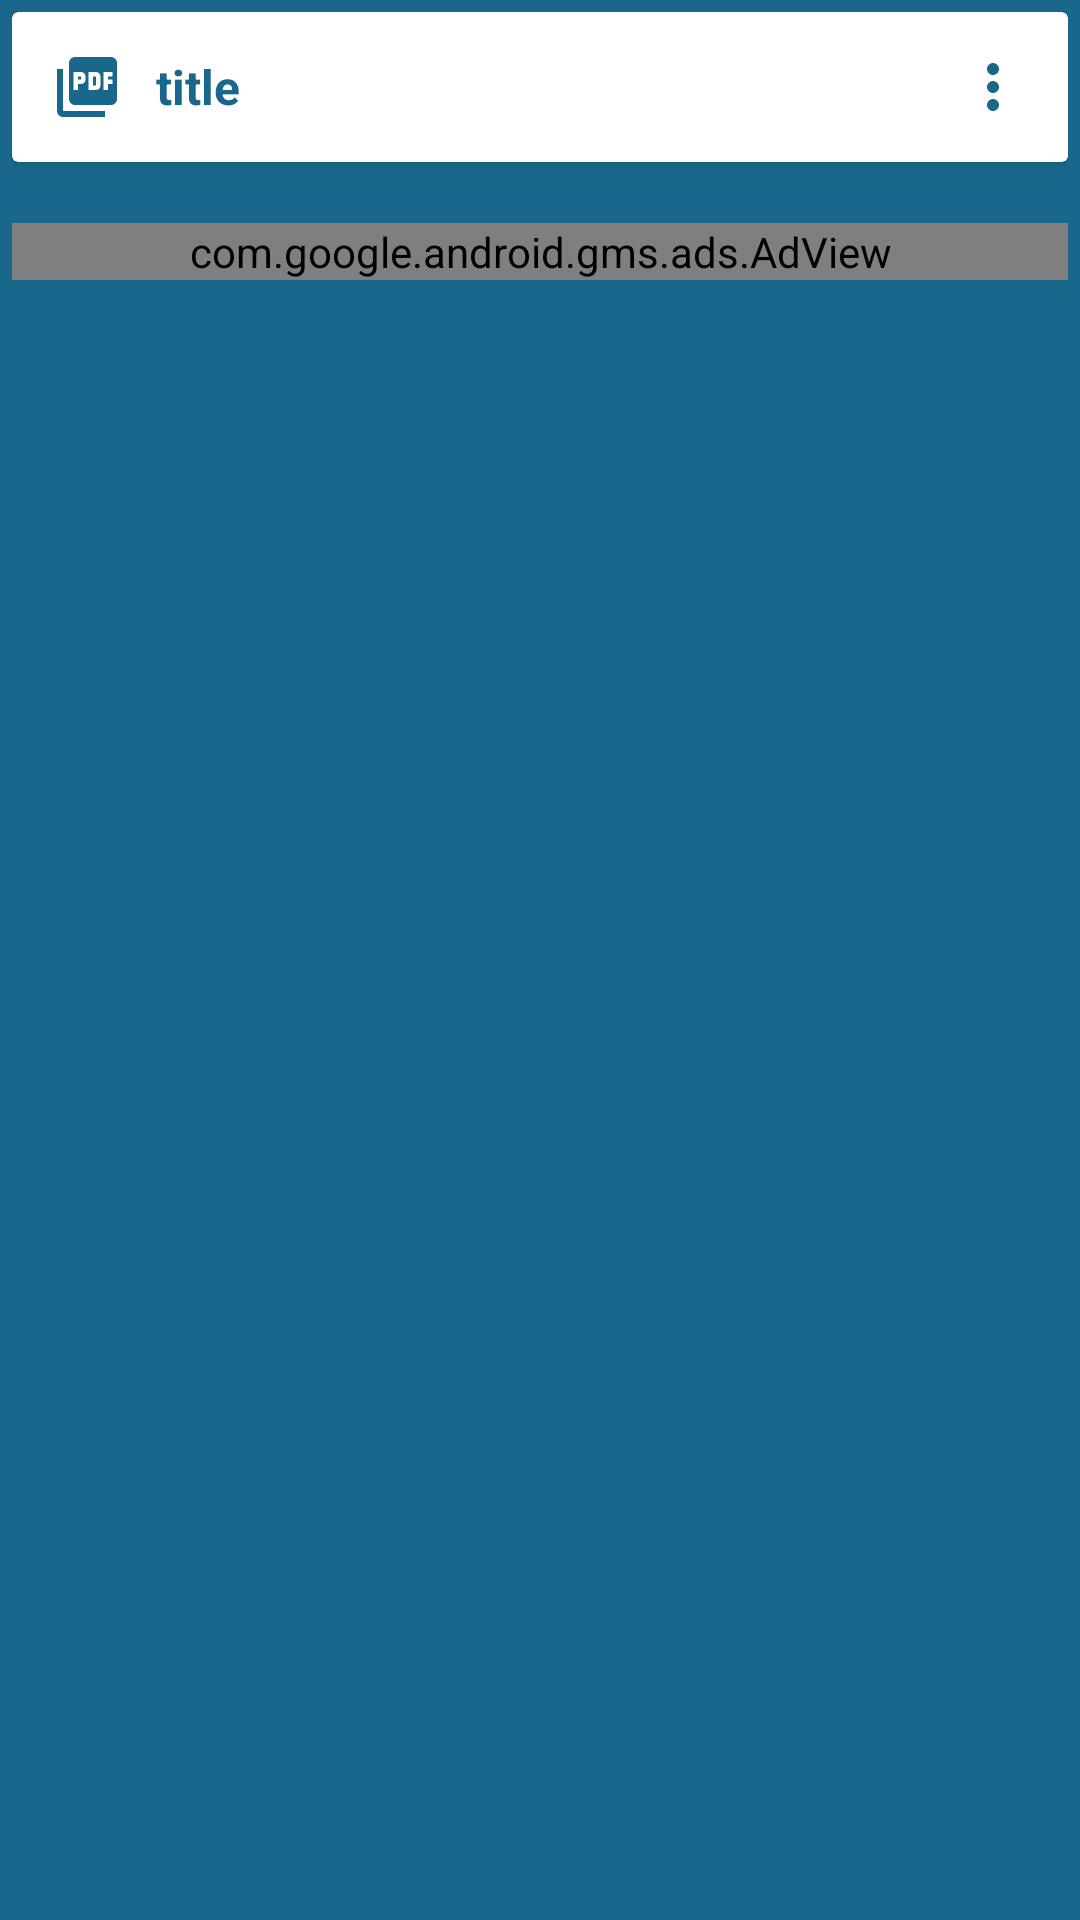

Icon click points for this 1080w x 1920h phone screenshot, format (x,y):
more vert: (993,87)
picture as pdf: (87,87)
